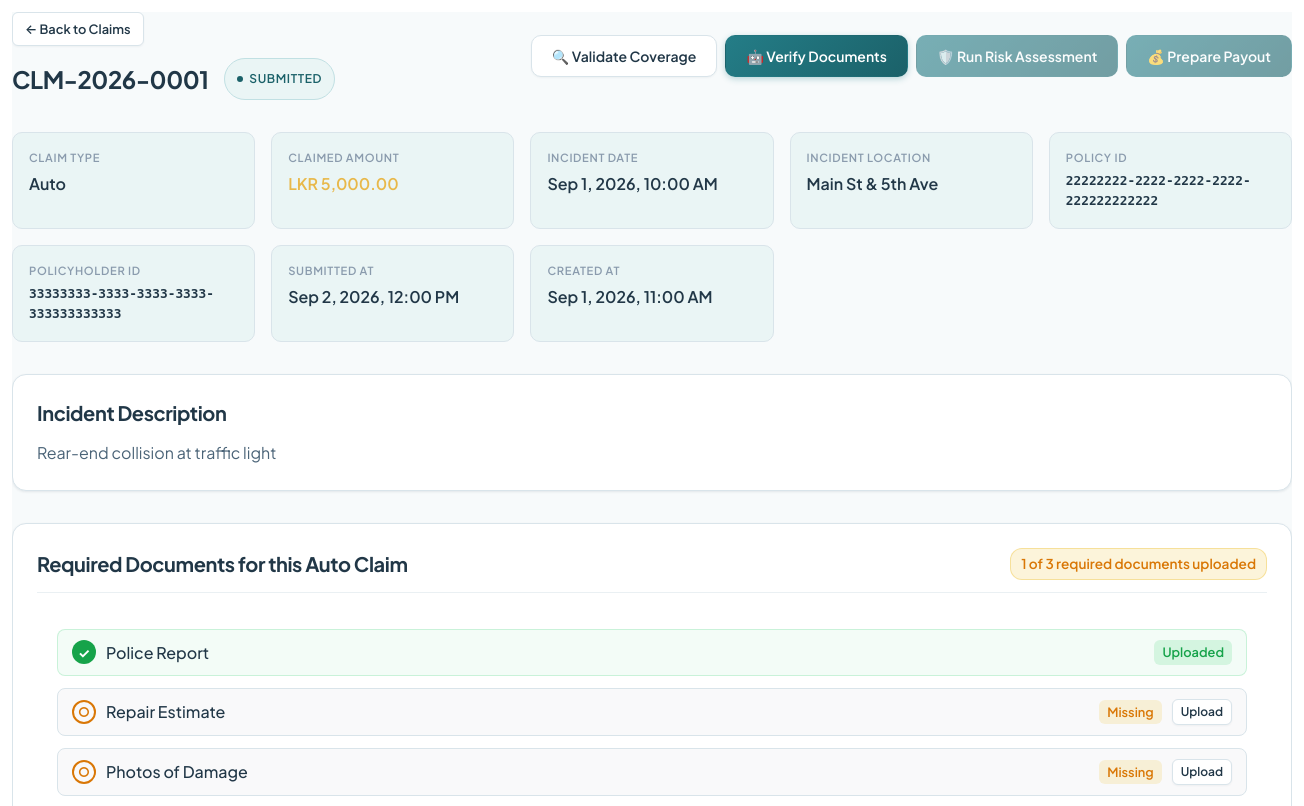
Test: ClaimDetails Component Tests › 1. renders complete verification result with success state
This screenshot has width=1304, height=806.
expect the heading "CLM-2026-0001 Submitted" is shown: met, box [12,58,335,100]
Click the button "🤖 Verify Documents" at (817, 56), box [725,35,908,77]
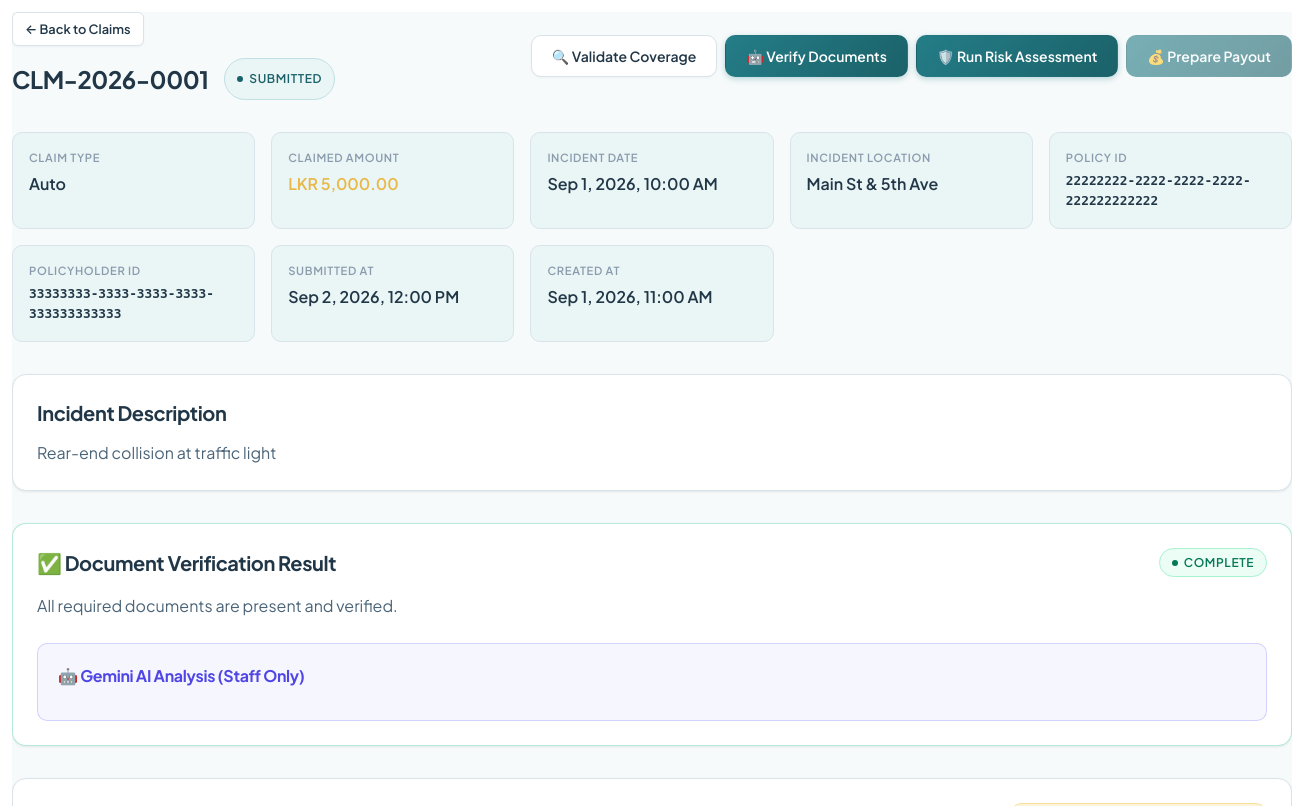
expect the text "All required documents are present and verified." is shown: met, box [37,595,398,616]
expect the text "Complete" is shown: met, box [1159,548,1267,577]
